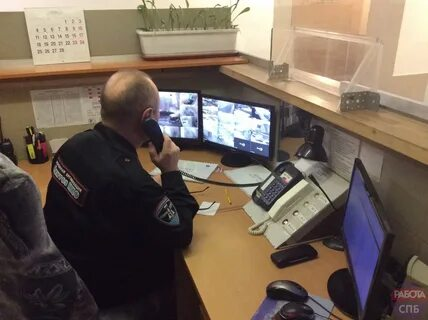awake: (43, 67, 200, 281)
